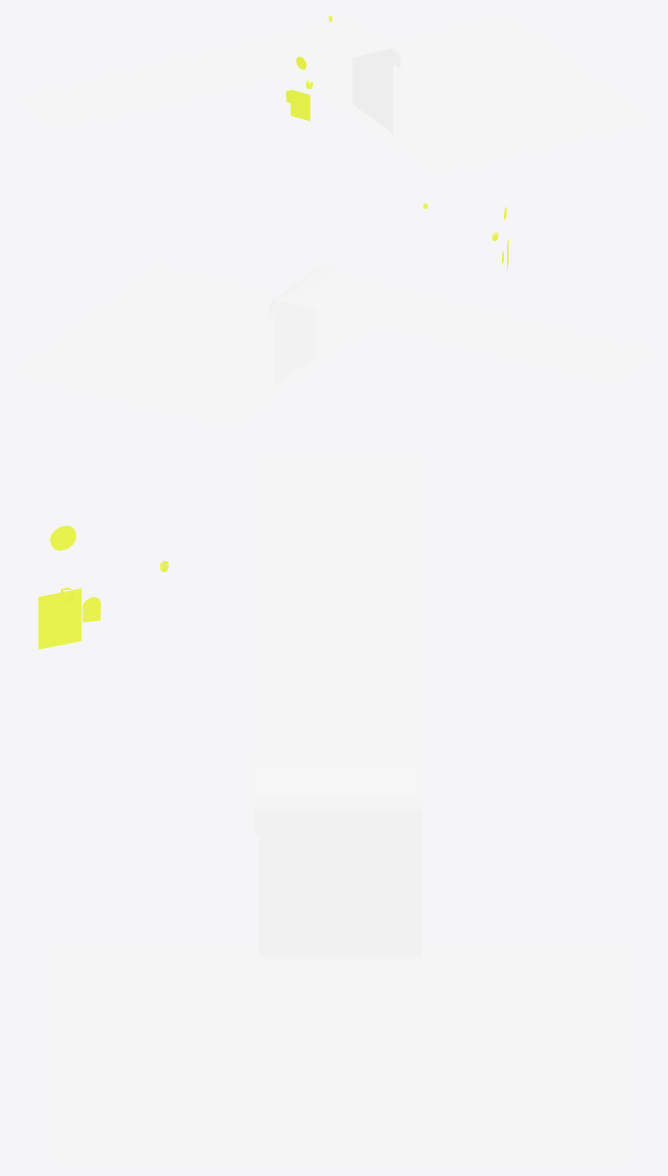
Rendered from House_Emissions.glb.
3 renders of one model, top to bottom at view 1: azimuth 30°, elevation 25°; view 2: azimuth 150°, elevation 25°; view 3: azimuth 270°, elevation 25°, orthographic. The views are drawn at different scales.
Parts seen in each view (by area): view 1: Chute_pond, Chute_top, Chute_vertical, Chute_intersection, Door_emission; view 2: Chute_pond, Chute_top, Chute_vertical, Chute_intersection; view 3: Chute_pond, Chute_top, Chute_vertical, Chute_intersection, Door_emission.
Part boxes in pixels (left/top/right/bottom): Chute_pond: left=294, top=15, right=653, bottom=174; Chute_top: left=14, top=22, right=392, bottom=130; Chute_vertical: left=352, top=47, right=392, bottom=133; Chute_intersection: left=331, top=14, right=400, bottom=68; Door_emission: left=290, top=89, right=310, bottom=120; Chute_pond: left=14, top=267, right=373, bottom=426; Chute_top: left=275, top=274, right=653, bottom=382; Chute_vertical: left=275, top=298, right=315, bottom=385; Chute_intersection: left=268, top=265, right=339, bottom=319; Chute_pond: left=51, top=947, right=629, bottom=1161; Chute_top: left=258, top=455, right=422, bottom=748; Chute_vertical: left=259, top=834, right=421, bottom=956; Chute_intersection: left=254, top=748, right=422, bottom=834; Door_emission: left=38, top=588, right=81, bottom=649.
Size of the model in its own units: 20.85 by 5.67 by 9.75.
